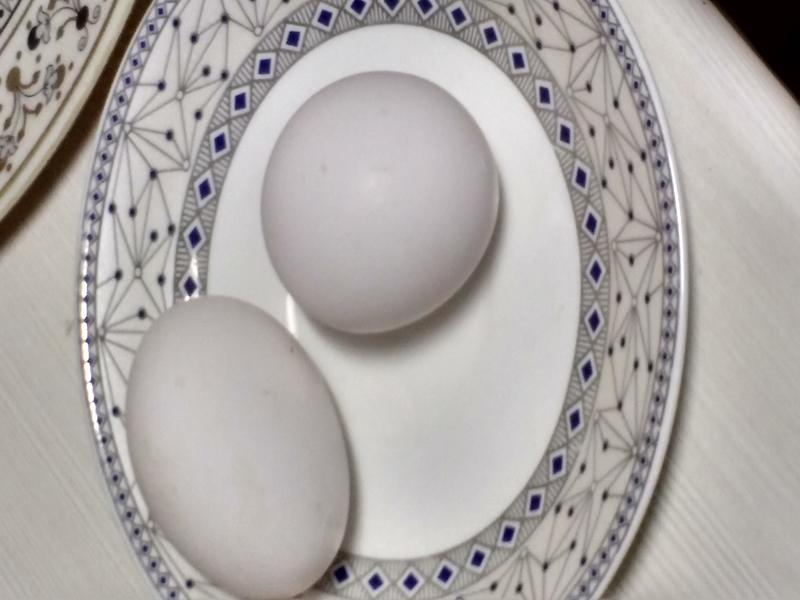egg: (132, 294, 348, 591)
